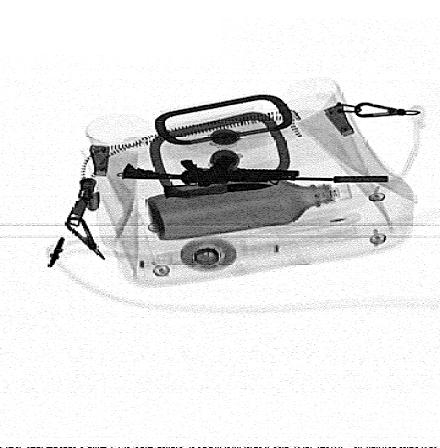Bullet: (161, 182, 275, 198)
Gun: (120, 155, 390, 188)
